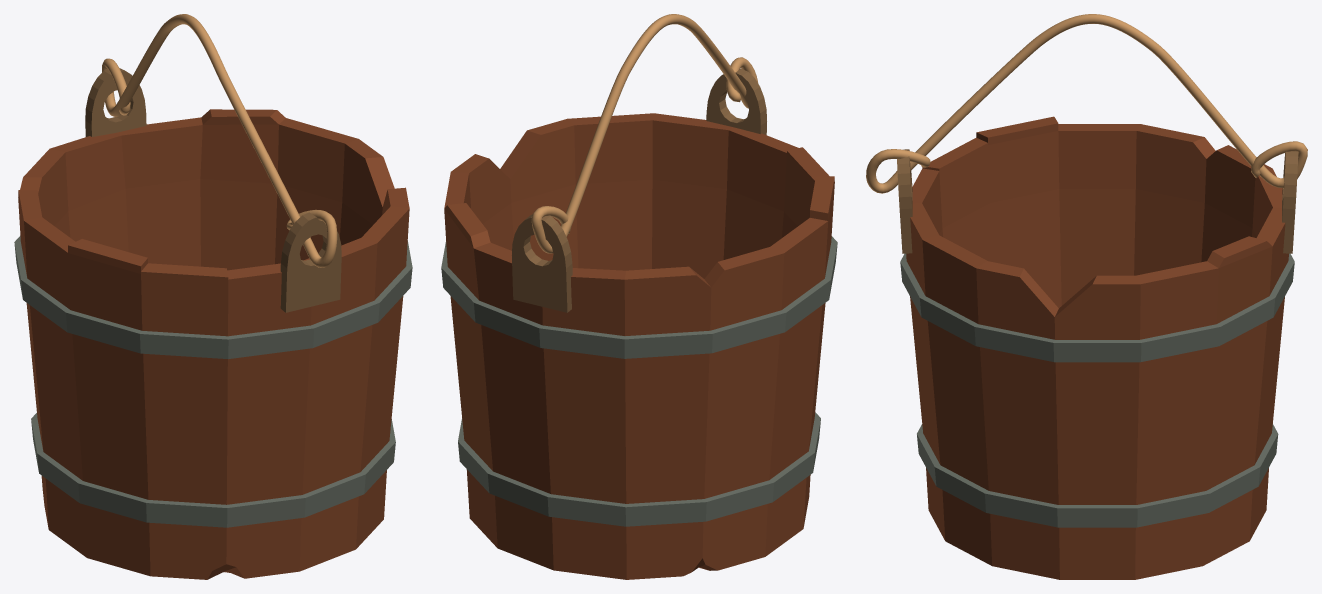
Rendered from bucket.fbx.
The picture shows the model from 3 angles, left to right: view 1: azimuth 30°, elevation 25°; view 2: azimuth 150°, elevation 25°; view 3: azimuth 270°, elevation 25°; orthographic projection. The views are drawn at different scales.
Visible parts, largest first — view 1: Cylinder.001; view 2: Cylinder.001; view 3: Cylinder.001.
Part boxes in pixels (bbox=[...]): Cylinder.001: bbox=[14, 14, 412, 579]; Cylinder.001: bbox=[441, 14, 837, 579]; Cylinder.001: bbox=[866, 14, 1307, 579].
Size of the model in its own units: 228 by 317 by 262.
